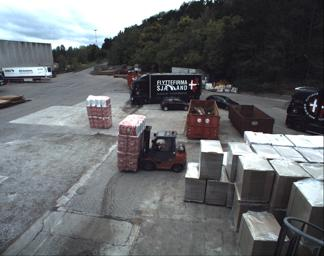rockwool_batts: (118, 116, 143, 172), (86, 92, 111, 126)
